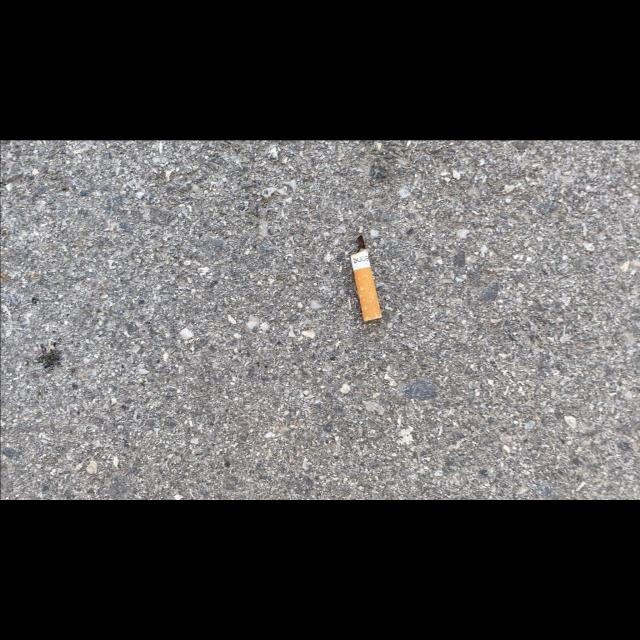cigarette: (350, 234, 382, 322)
